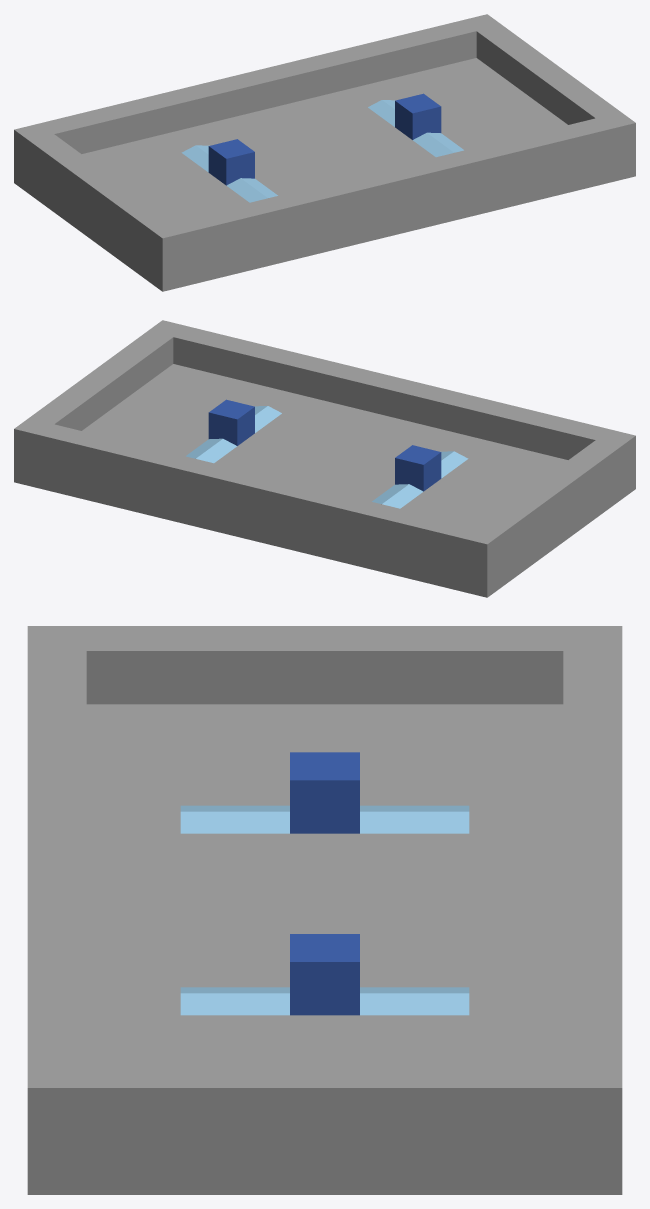
The model's file is convexhull.obj.
3 views of the same model, one above another, from view 1: azimuth 30°, elevation 25°; view 2: azimuth 150°, elevation 25°; view 3: azimuth 270°, elevation 25° (orthographic). The views are drawn at different scales.
Parts seen in each view (by area): view 1: mesh48, mesh40, mesh43, mesh44, mesh39, mesh45, mesh26, mesh49, mesh7, mesh13; view 2: mesh48, mesh38, mesh43, mesh46, mesh39, mesh45, mesh32, mesh20, mesh3, mesh17; view 3: mesh48, mesh43, mesh41, mesh47, mesh2, mesh8, mesh12, mesh18, mesh21, mesh29, mesh35, mesh50 (+4 smaller).
Boxes of the visible parts, x1=… form: mesh48: x1=82, y1=58, x2=567, y2=221; mesh40: x1=162, y1=123, x2=635, y2=291; mesh43: x1=14, y1=14, x2=635, y2=238; mesh44: x1=54, y1=31, x2=476, y2=153; mesh39: x1=14, y1=130, x2=162, y2=291; mesh45: x1=476, y1=31, x2=594, y2=124; mesh26: x1=412, y1=106, x2=441, y2=139; mesh49: x1=226, y1=152, x2=254, y2=185; mesh7: x1=413, y1=133, x2=453, y2=157; mesh13: x1=226, y1=178, x2=267, y2=202; mesh48: x1=82, y1=364, x2=567, y2=527; mesh38: x1=14, y1=429, x2=487, y2=597; mesh43: x1=14, y1=320, x2=635, y2=544; mesh46: x1=173, y1=337, x2=595, y2=459; mesh39: x1=487, y1=436, x2=635, y2=597; mesh45: x1=55, y1=337, x2=173, y2=430; mesh32: x1=208, y1=412, x2=237, y2=445; mesh20: x1=395, y1=458, x2=423, y2=491; mesh3: x1=382, y1=484, x2=423, y2=508; mesh17: x1=196, y1=439, x2=236, y2=463; mesh48: x1=86, y1=704, x2=563, y2=1062; mesh43: x1=27, y1=626, x2=622, y2=1087; mesh41: x1=27, y1=1088, x2=622, y2=1194; mesh47: x1=86, y1=651, x2=563, y2=704; mesh2: x1=360, y1=811, x2=469, y2=833; mesh8: x1=180, y1=993, x2=289, y2=1015; mesh12: x1=180, y1=811, x2=289, y2=833; mesh18: x1=360, y1=993, x2=469, y2=1015; mesh21: x1=325, y1=780, x2=359, y2=833; mesh29: x1=290, y1=962, x2=324, y2=1015; mesh35: x1=325, y1=962, x2=359, y2=1015; mesh50: x1=290, y1=780, x2=324, y2=833.
Size of the model in its own units: 18.54 by 2 by 10.08.
